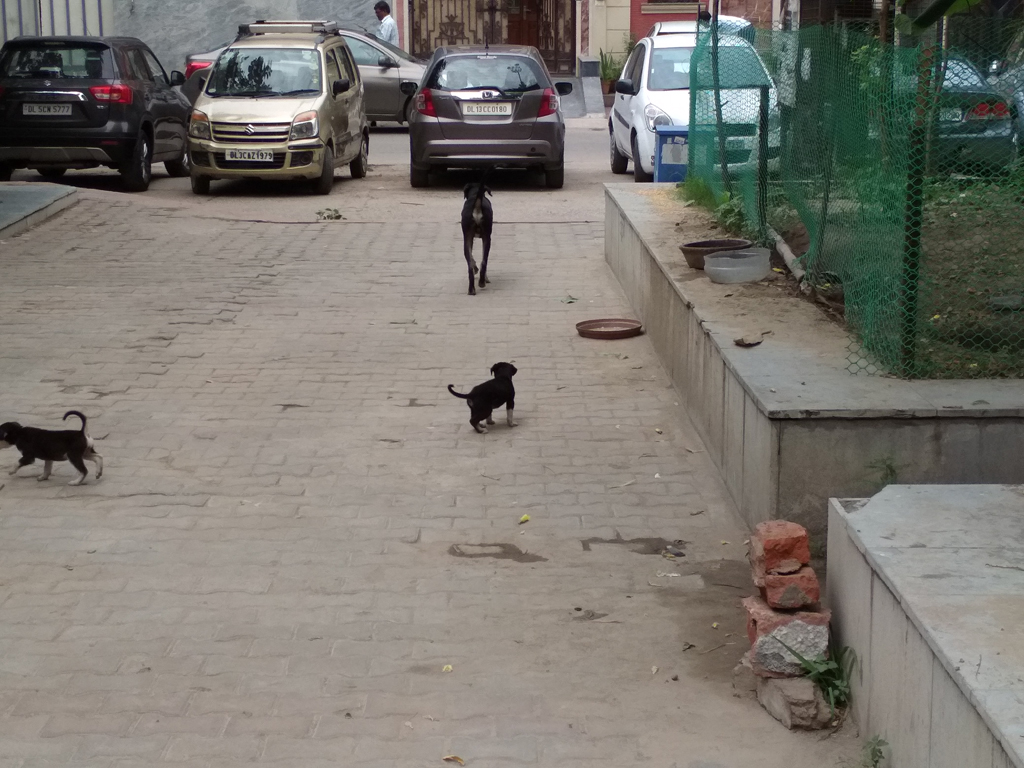dog: (1, 410, 106, 485), (447, 362, 518, 433), (461, 182, 493, 295)
